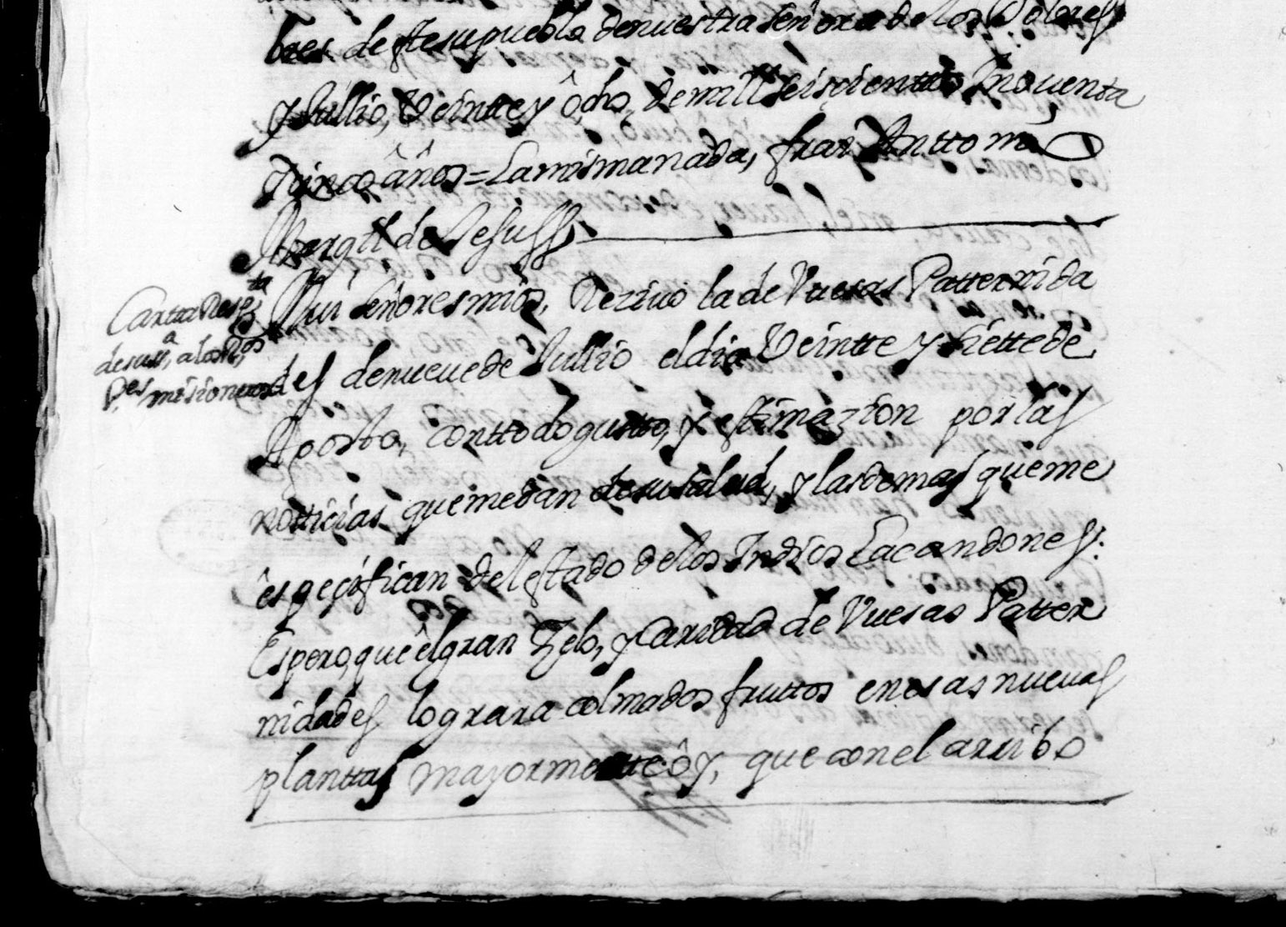lacandon: (845, 514, 1106, 581)
